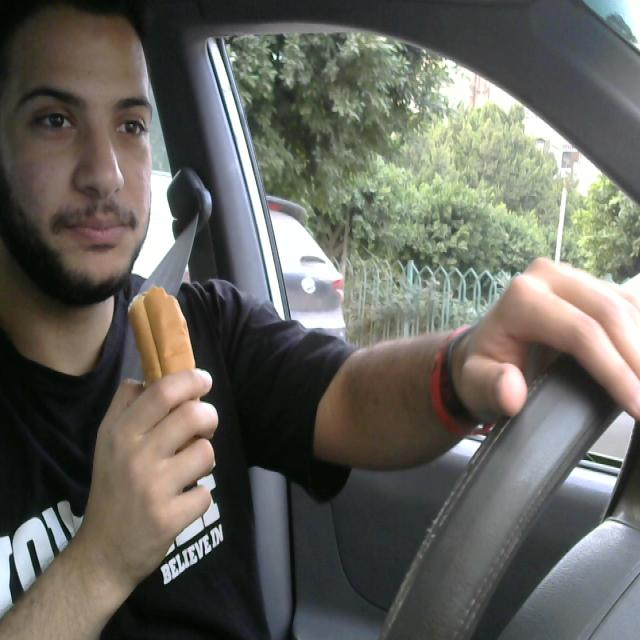eating: (127, 279, 226, 478)
